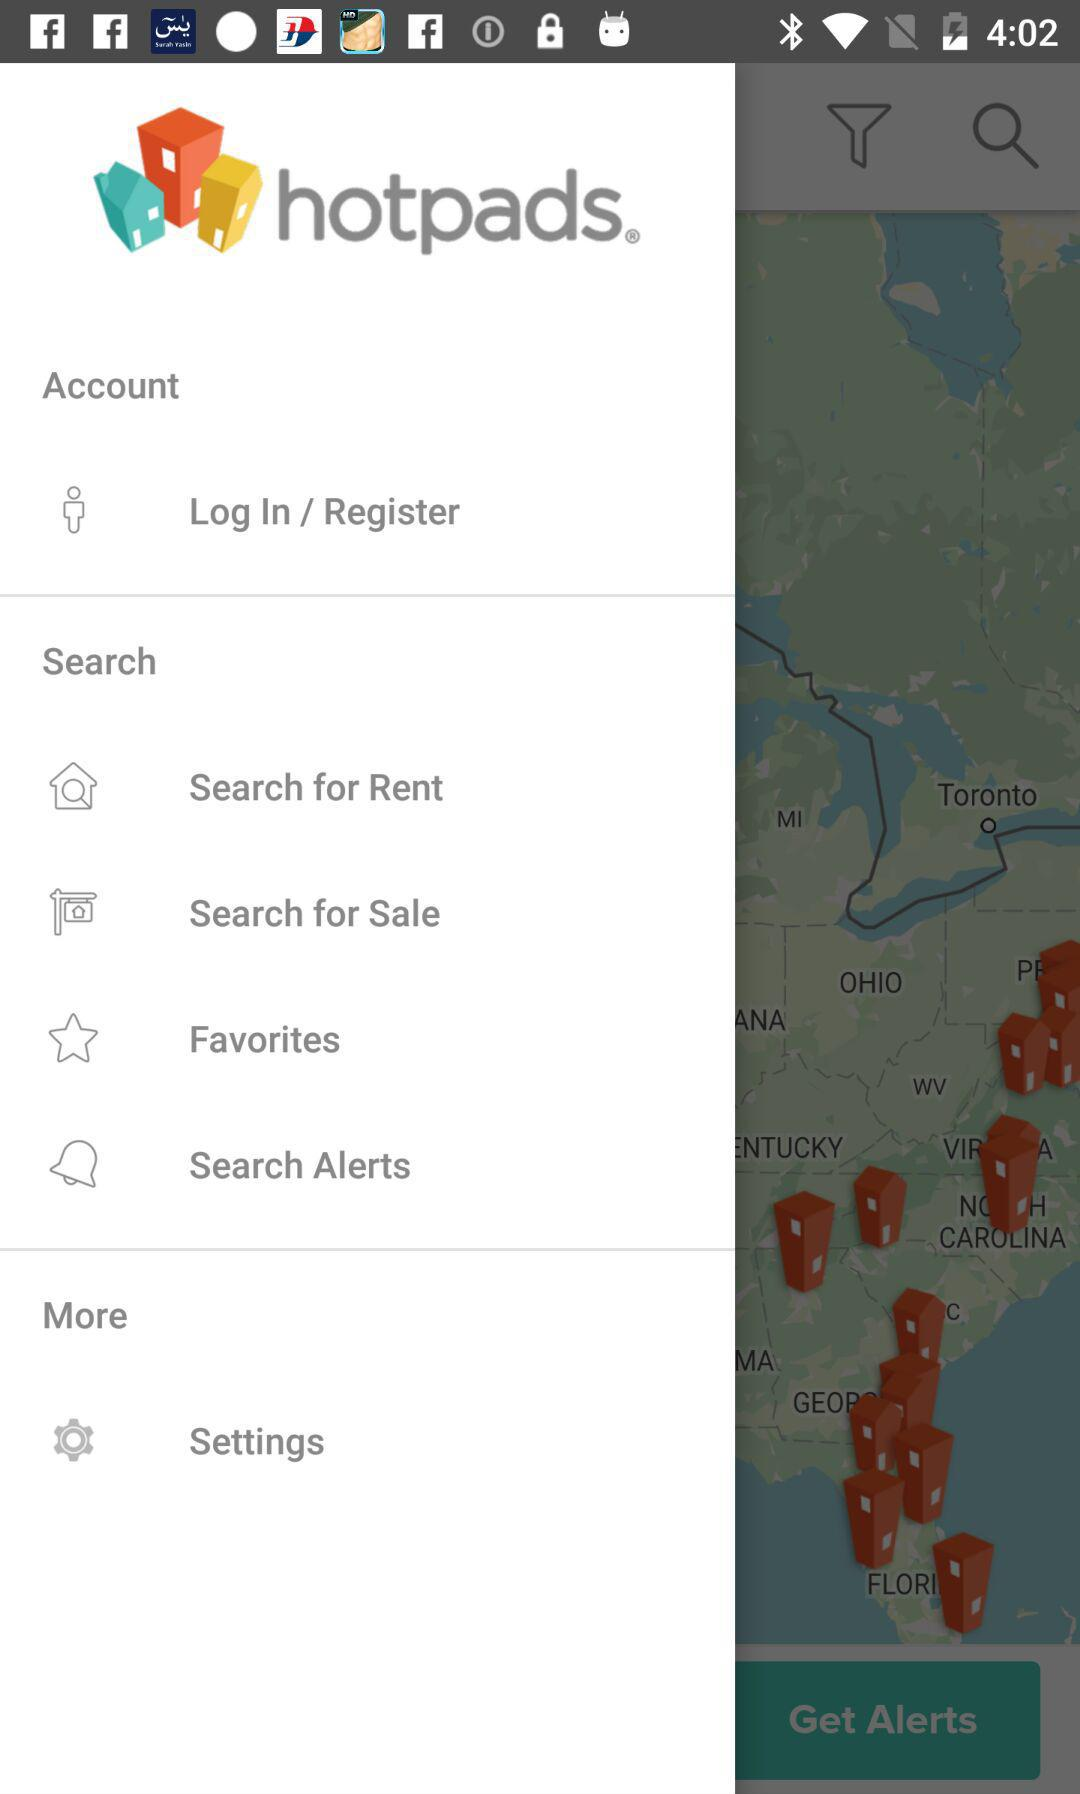Drawer: (1, 64, 735, 1794)
Icon: (47, 761, 100, 812), (47, 1012, 100, 1064), (49, 1139, 100, 1189), (54, 1419, 96, 1463), (63, 486, 86, 536)
Image: (94, 108, 642, 258), (50, 888, 99, 937)
Text: (190, 496, 462, 536), (190, 770, 446, 803), (190, 897, 442, 930), (190, 1149, 413, 1181), (191, 1426, 325, 1463), (191, 1024, 341, 1055), (44, 372, 181, 401), (42, 646, 158, 677), (44, 1301, 129, 1331)
UpperTaskBar: (1, 1, 1080, 64)
